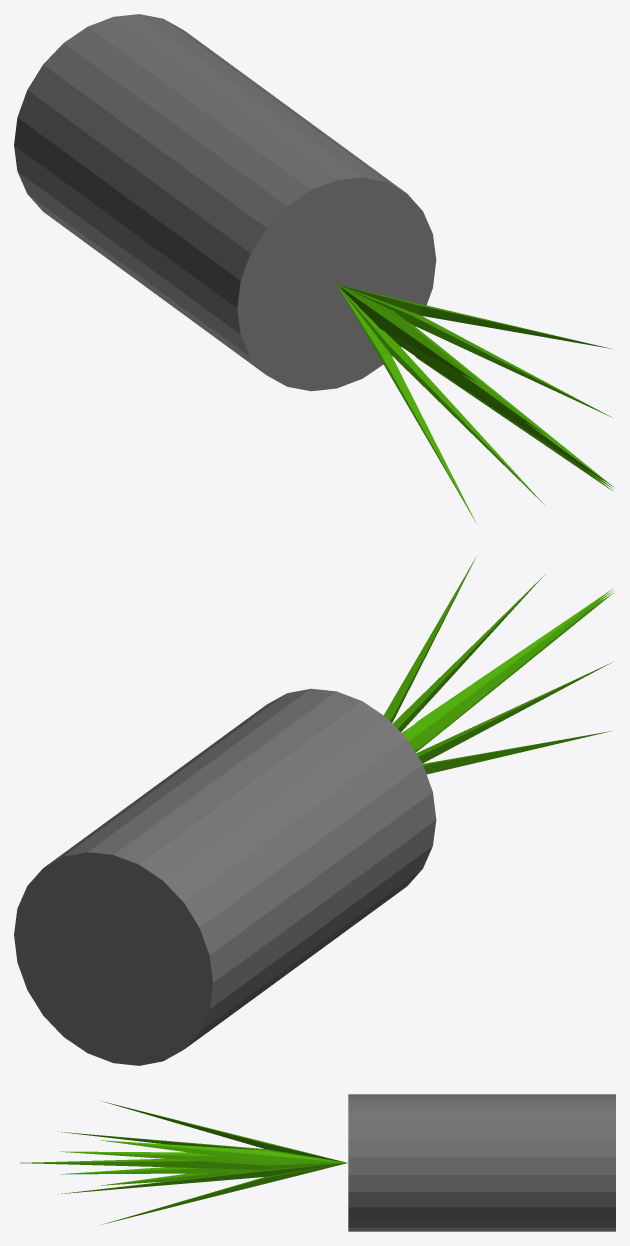
File: Perenna50cm.obj
3 renders of one model, top to bottom at view 1: azimuth 30°, elevation 25°; view 2: azimuth 150°, elevation 25°; view 3: azimuth 270°, elevation 25°, orthographic. The views are drawn at different scales.
Size of the model in its own units: 0.2058 by 0.2058 by 0.9.
